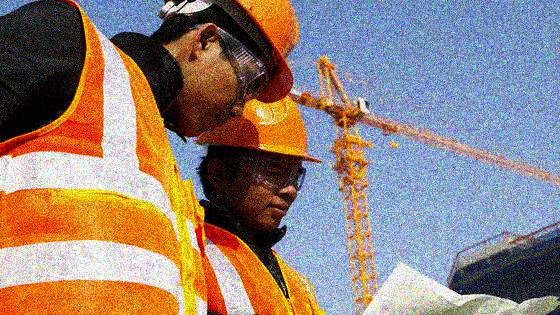helmet: (156, 1, 301, 141), (190, 86, 322, 229)
